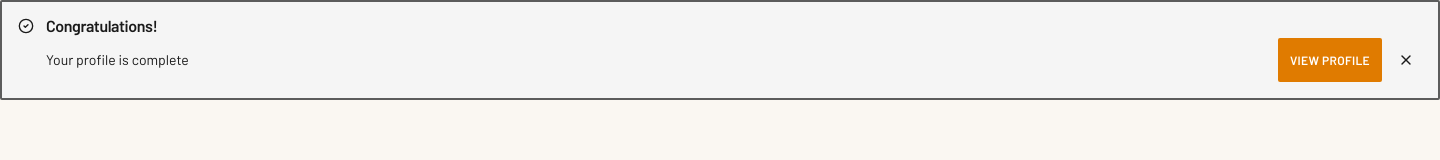
CompletionIncentiveBanner › 100% Completion Special Behavior › should show compact badge after dismissing 100% banner
Click the button named "Dismiss banner". click: (1406, 60)
box: [1390,38,1422,82]
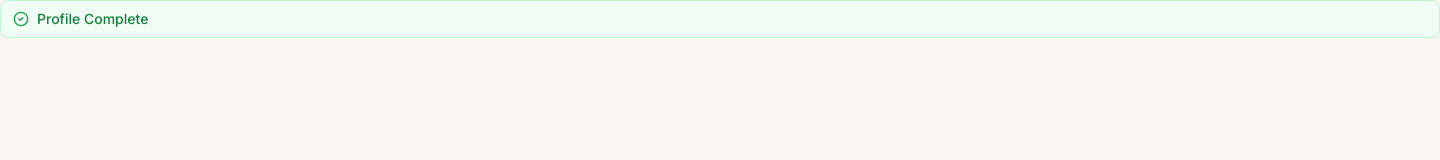
Expected: the heading "Congratulations!" is gone
Expected: the text "Profile Complete" is shown, [37,9,148,29]
